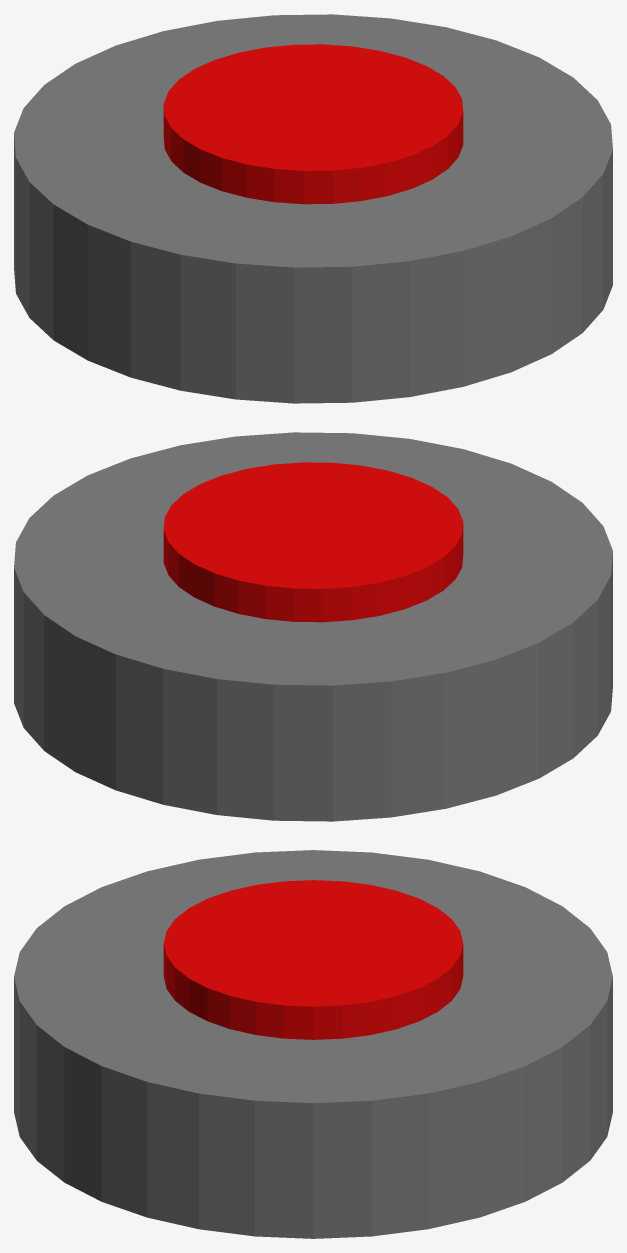
File: button.glb
3 views of the same model, one above another, from view 1: azimuth 30°, elevation 25°; view 2: azimuth 150°, elevation 25°; view 3: azimuth 270°, elevation 25° (orthographic).
Parts seen in each view (by area): view 1: Cylinder; view 2: Cylinder; view 3: Cylinder.
Boxes of the visible parts, x1=… form: Cylinder: x1=14, y1=14, x2=612, y2=403; Cylinder: x1=14, y1=432, x2=612, y2=821; Cylinder: x1=14, y1=850, x2=612, y2=1238.
Bounding box in the file's own units: 2 × 0.6225 × 2.
